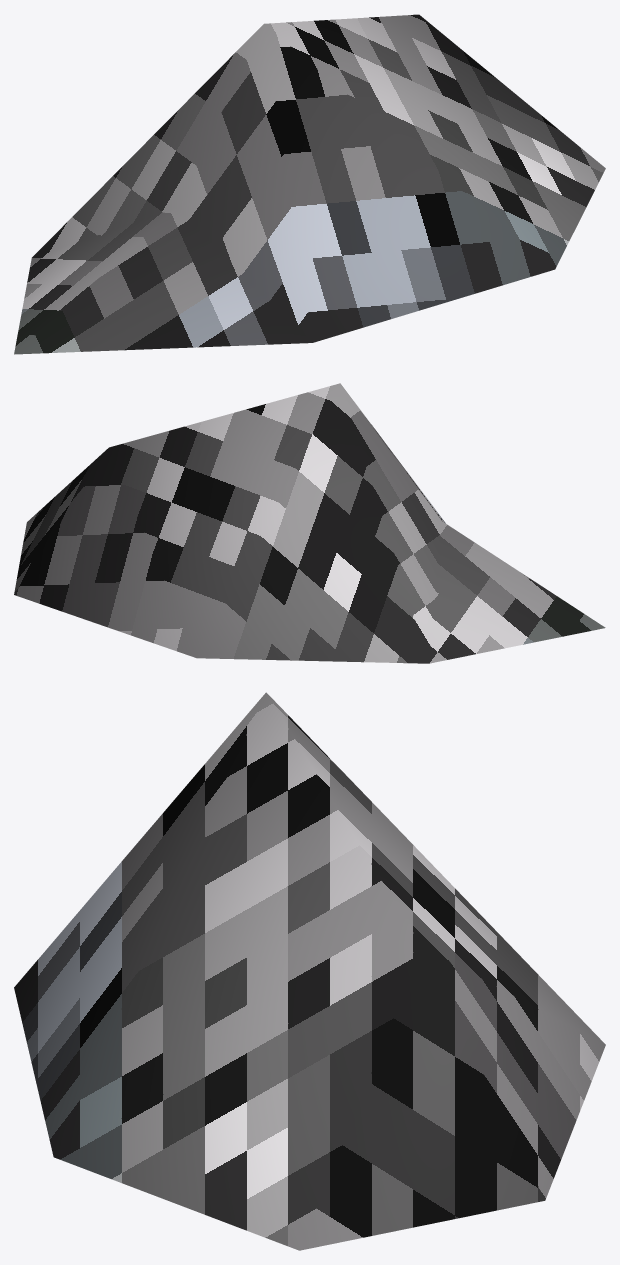
File: Environment - Prop - Gravel - PMGravel.glb
3 renders of one model, top to bottom at view 1: azimuth 30°, elevation 25°; view 2: azimuth 150°, elevation 25°; view 3: azimuth 270°, elevation 25°, orthographic. The views are drawn at different scales.
Visible parts, largest first — view 1: PMGRAVEL; view 2: PMGRAVEL; view 3: PMGRAVEL.
Part boxes in pixels (x1=…): PMGRAVEL: x1=14, y1=14, x2=605, y2=354; PMGRAVEL: x1=14, y1=383, x2=605, y2=663; PMGRAVEL: x1=14, y1=692, x2=605, y2=1250.
Bounding box in the file's own units: 9.61 × 3.47 × 5.74.
1 material, 1 textured.
